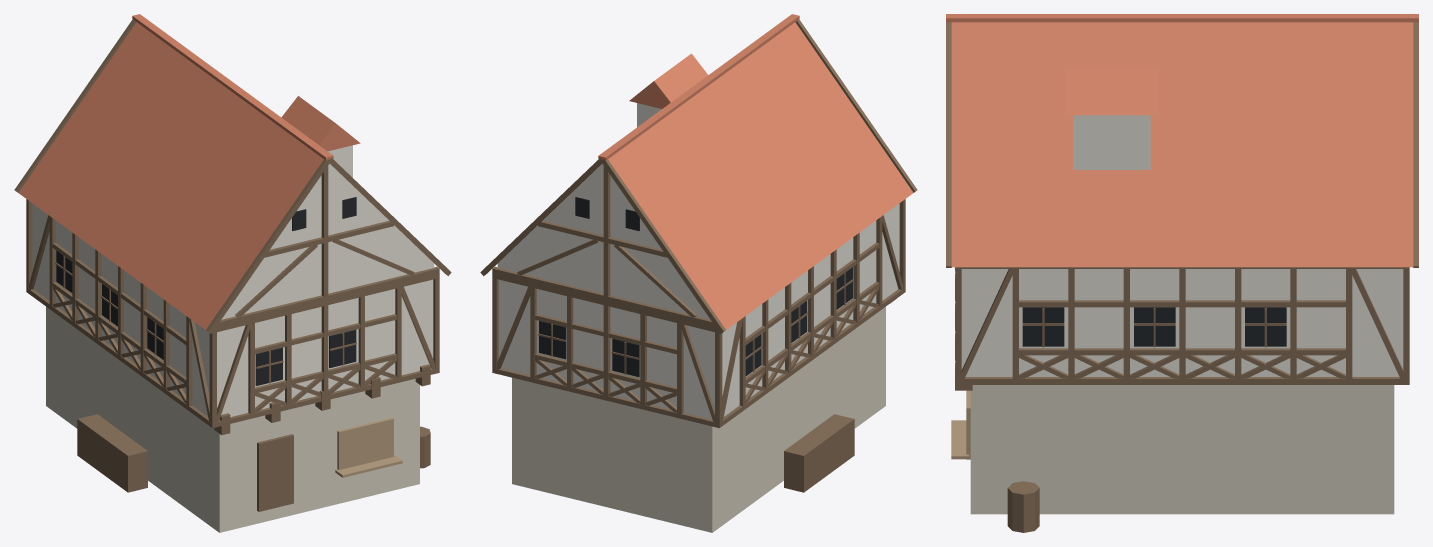
The model's file is house_half_timber.glb.
The picture shows the model from 3 angles, left to right: view 1: azimuth 30°, elevation 25°; view 2: azimuth 150°, elevation 25°; view 3: azimuth 270°, elevation 25°; orthographic projection. The views are drawn at different scales.
Visible parts, largest first — view 1: HouseHalfTimber; view 2: HouseHalfTimber; view 3: HouseHalfTimber.
Part boxes in pixels (<box>): HouseHalfTimber: <box>14,14,451,532</box>; HouseHalfTimber: <box>480,14,917,532</box>; HouseHalfTimber: <box>946,14,1418,532</box>.
Size of the model in its own units: 10.45 by 13.71 by 13.4.
